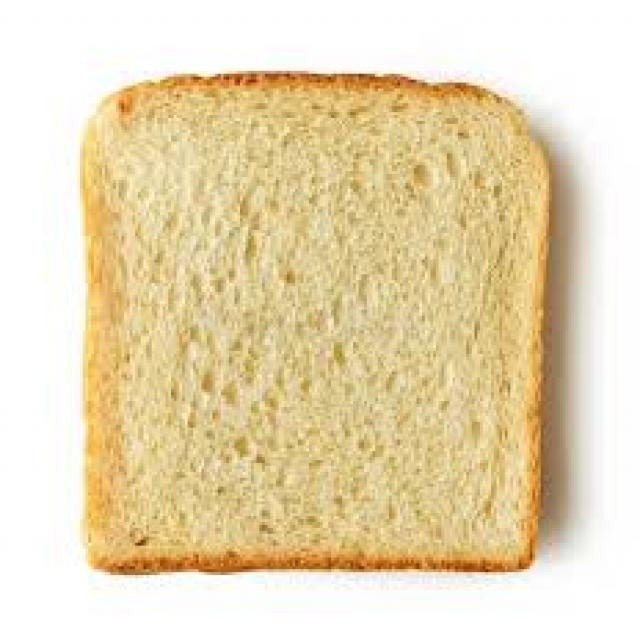organic waste: (74, 71, 552, 569)
